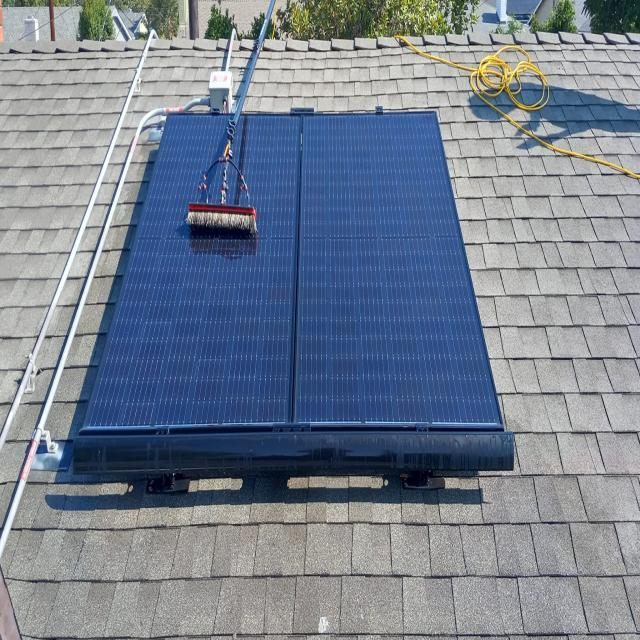clean-solar-panel: (75, 111, 514, 475)
